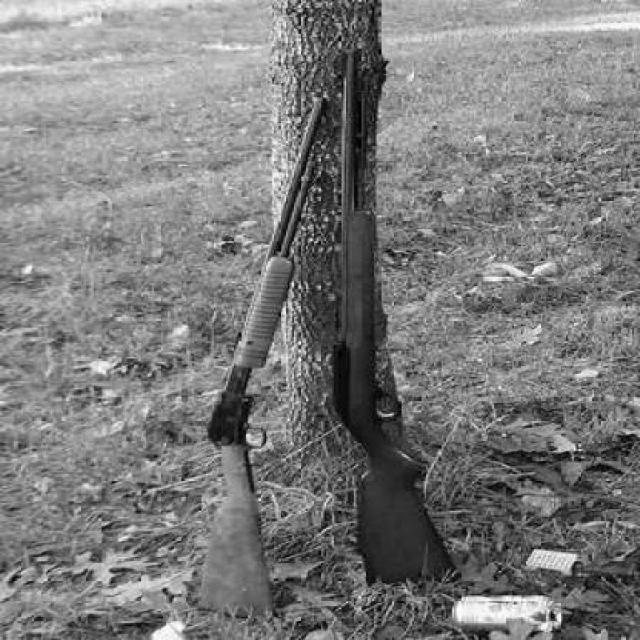weapon: (332, 49, 458, 578), (208, 94, 328, 594)
